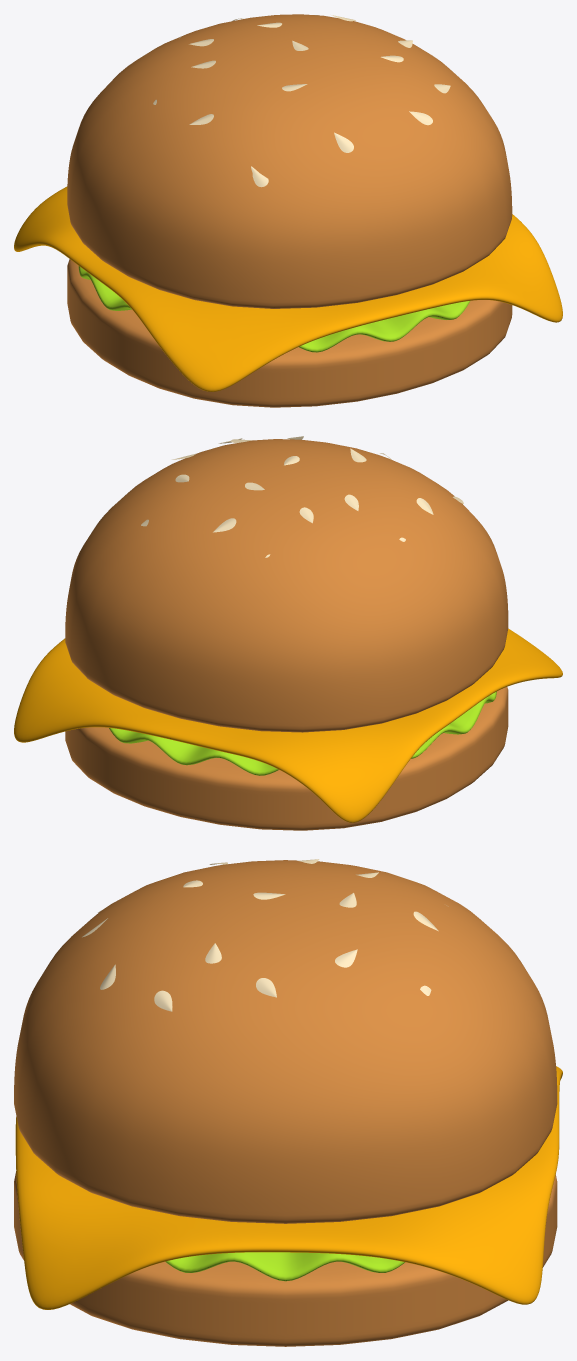
File: burger lettuce cheese.glb
3 views of the same model, one above another, from view 1: azimuth 30°, elevation 25°; view 2: azimuth 150°, elevation 25°; view 3: azimuth 270°, elevation 25° (orthographic). The views are drawn at different scales.
Visible parts, largest first — view 1: burger lettuce cheese.002; view 2: burger lettuce cheese.002; view 3: burger lettuce cheese.002.
Boxes of the visible parts, x1,y1,x2,y2 form: burger lettuce cheese.002: [14, 14, 562, 407]; burger lettuce cheese.002: [14, 436, 562, 830]; burger lettuce cheese.002: [14, 859, 562, 1346].
Bounding box in the file's own units: 1.2 × 0.8413 × 1.19.
